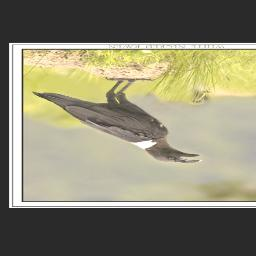Crow: (29, 77, 204, 164)
